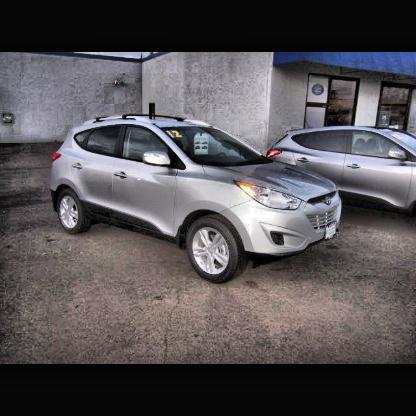Hyundai Tucson SUV 2012: (50, 114, 345, 287)
